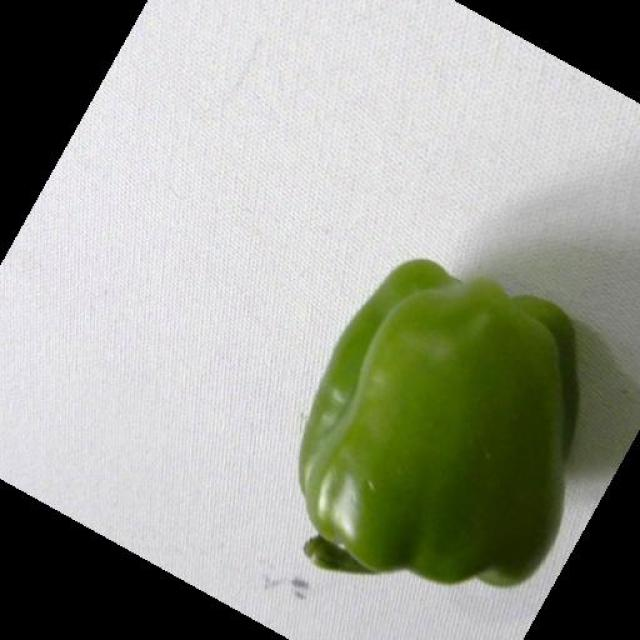Fresh_Capsicum: (314, 258, 597, 606)
